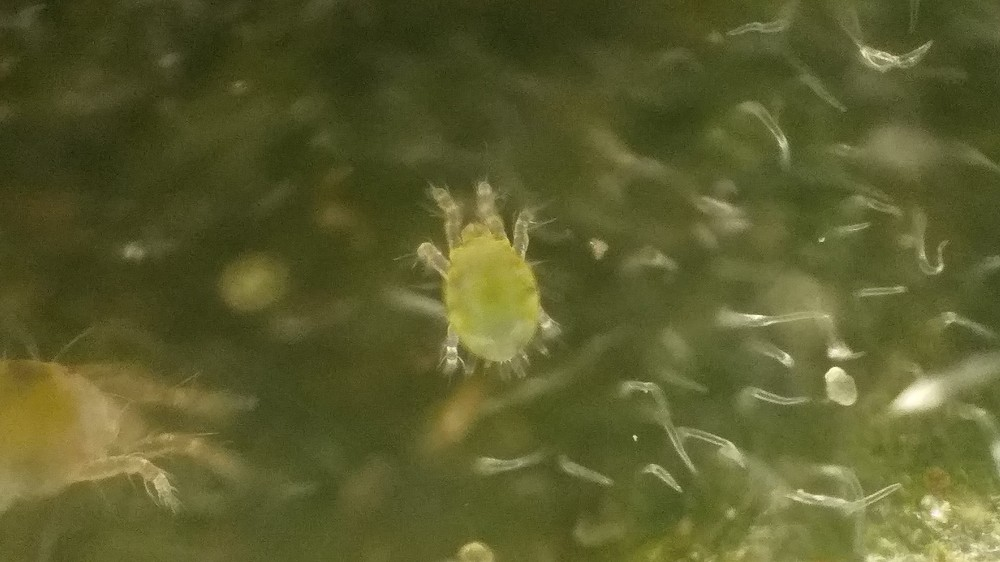Aracnido Rojo: (3, 299, 268, 524), (380, 170, 566, 391)
